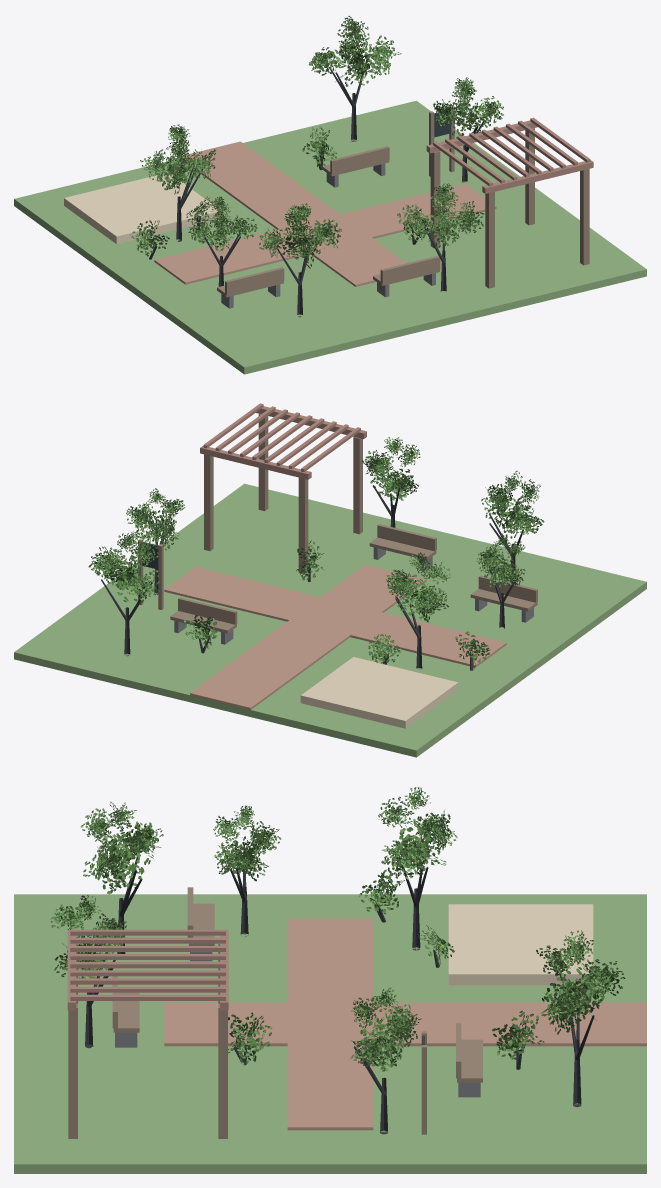
File: service_park.glb
3 renders of one model, top to bottom at view 1: azimuth 30°, elevation 25°; view 2: azimuth 150°, elevation 25°; view 3: azimuth 270°, elevation 25°, orthographic. The views are drawn at different scales.
Parts seen in each view (by area): view 1: park; view 2: park; view 3: park.
Part boxes in pixels (bbox=[...]): park: bbox=[14, 16, 646, 374]; park: bbox=[14, 403, 646, 757]; park: bbox=[14, 787, 646, 1173].
Bounding box in the file's own units: 11.9 × 3.75 × 11.8.
3 materials, 2 textured.
